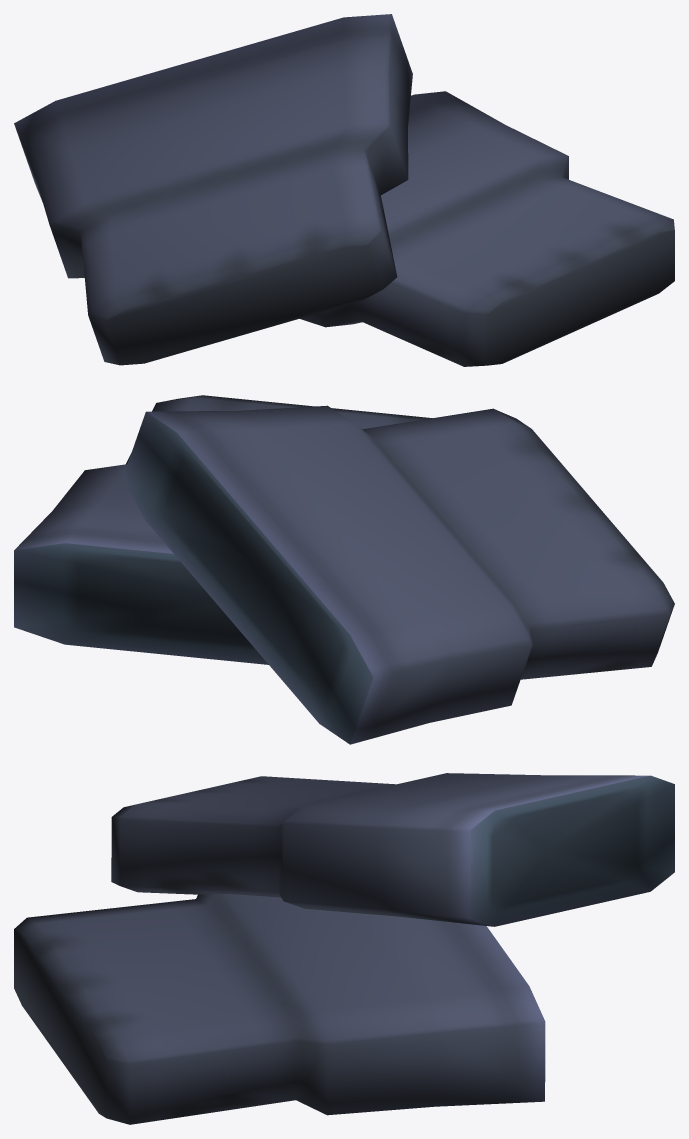
File: Avatar_Gloves_Base_Mod.FBX
3 renders of one model, top to bottom at view 1: azimuth 30°, elevation 25°; view 2: azimuth 150°, elevation 25°; view 3: azimuth 270°, elevation 25°, orthographic. The views are drawn at different scales.
Parts seen in each view (by area): view 1: Avatar_Gloves_Base_Mod; view 2: Avatar_Gloves_Base_Mod; view 3: Avatar_Gloves_Base_Mod.
Boxes of the visible parts, box(x1,y1,x2,y2) form: Avatar_Gloves_Base_Mod: box(14, 14, 674, 366); Avatar_Gloves_Base_Mod: box(14, 395, 674, 744); Avatar_Gloves_Base_Mod: box(14, 773, 674, 1124).
Bounding box in the file's own units: 37.73 × 13.89 × 35.37.
